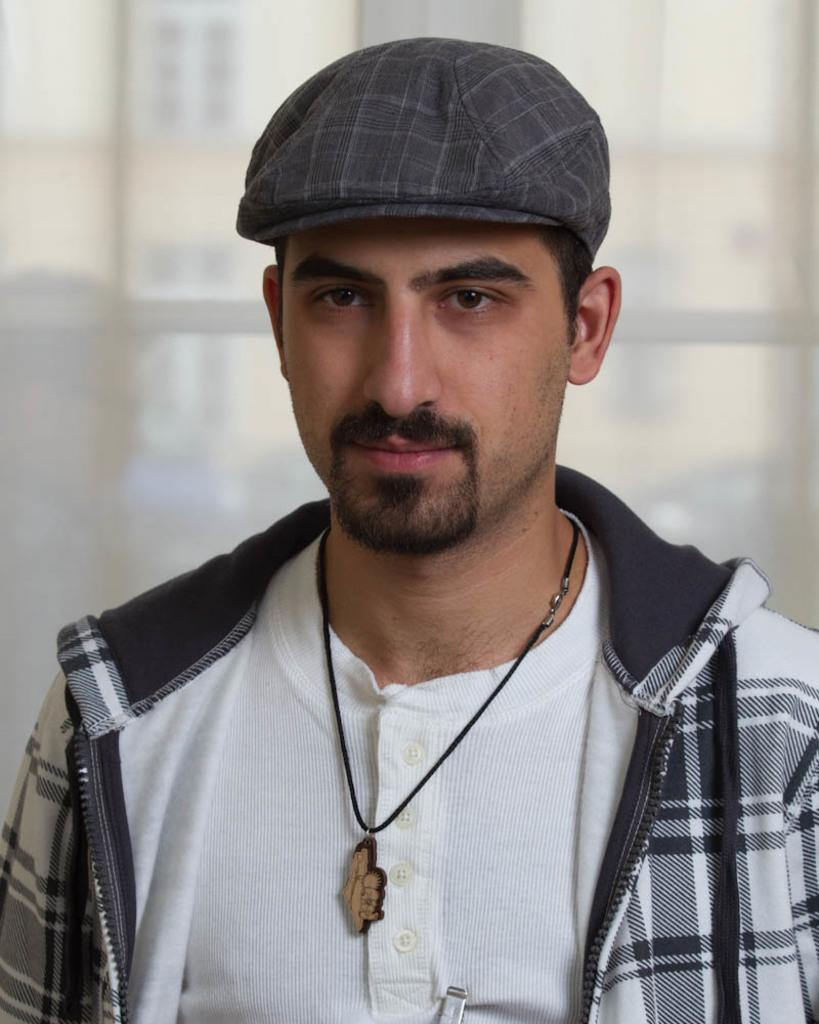Hat: (236, 40, 612, 240)
